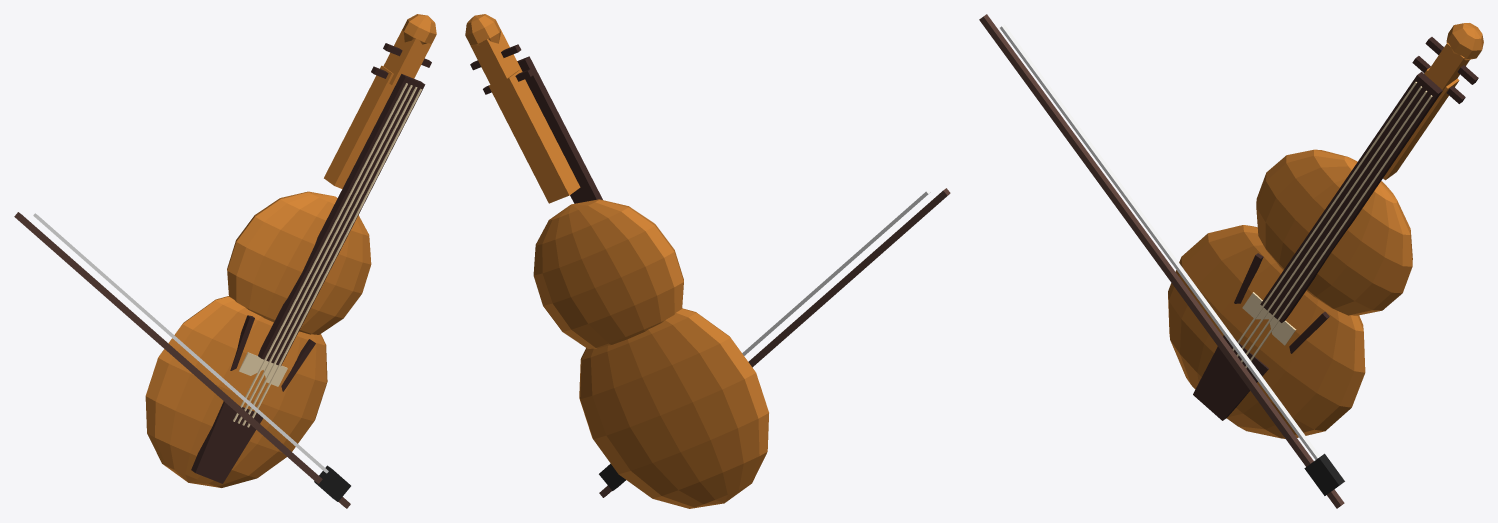
Rendered from fiol.glb.
3 renders of one model, left to right at view 1: azimuth 30°, elevation 25°; view 2: azimuth 150°, elevation 25°; view 3: azimuth 330°, elevation 25°, orthographic. The views are drawn at different scales.
Parts seen in each view (by area): view 1: fiol; view 2: fiol; view 3: fiol.
Part boxes in pixels (x1,y1,x2,y2): fiol: (14,14,436,508); fiol: (465,14,950,508); fiol: (979,14,1483,508).
Bounding box in the file's own units: 0.9568 × 0.9415 × 0.1399.
